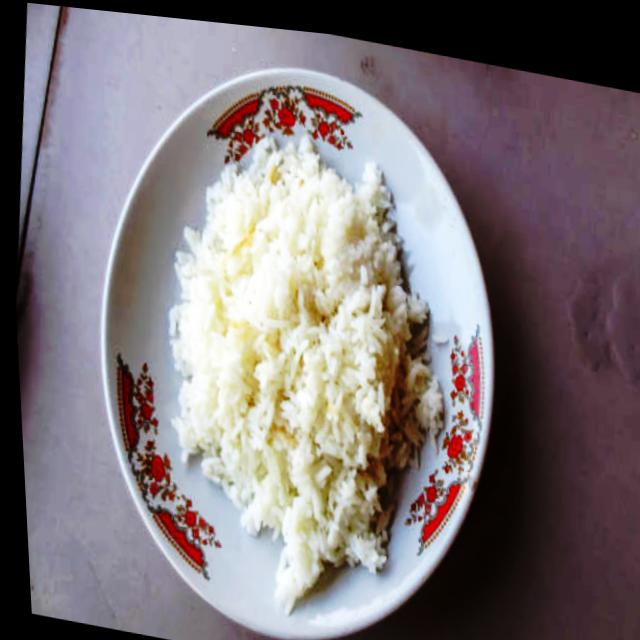rice: (132, 102, 479, 640)
